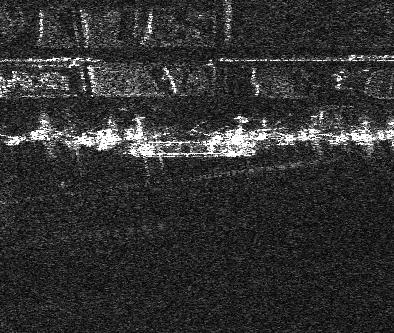ship: (126, 139, 257, 157)
